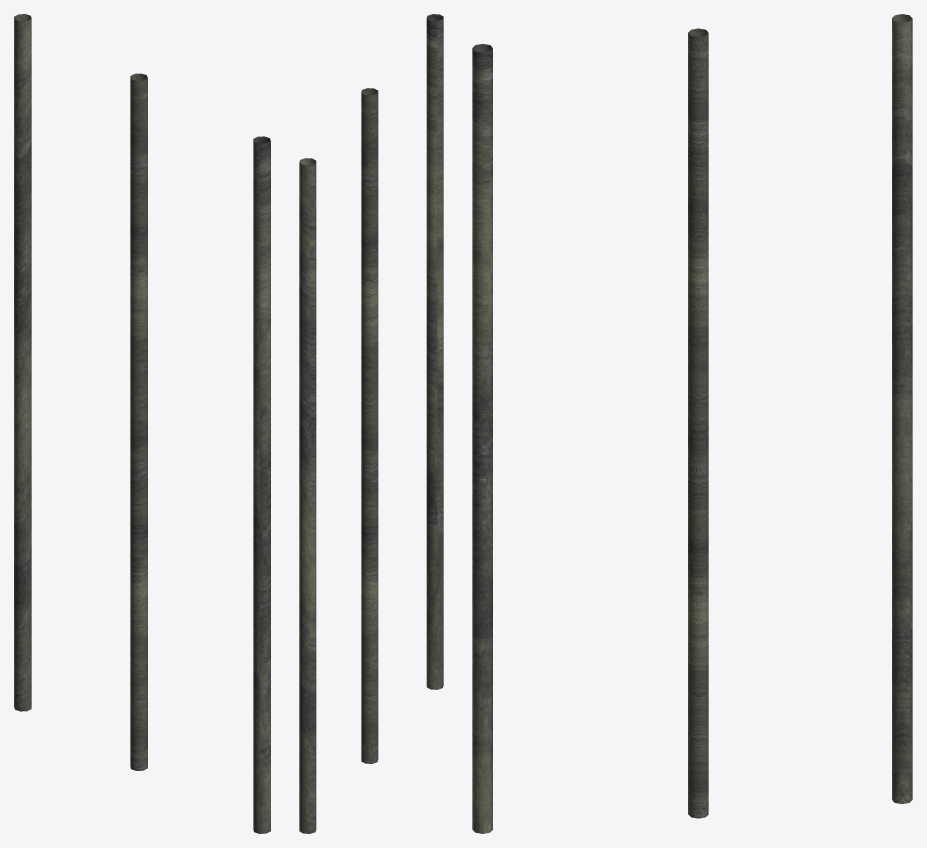
Rendered from Jail_House1.fbx.
3 renders of one model, left to right at view 1: azimuth 30°, elevation 25°; view 2: azimuth 150°, elevation 25°; view 3: azimuth 270°, elevation 25°, orthographic. The views are drawn at different scales.
Parts seen in each view (by area): view 1: Circle; view 2: Circle; view 3: Circle.
Part boxes in pixels (x1,y1,x2,y2): Circle: (14,14,270,833); Circle: (299,14,443,833); Circle: (472,14,912,833).
Size of the model in its own units: 1.39 by 13.11 by 6.69.
1 material, 1 textured.
